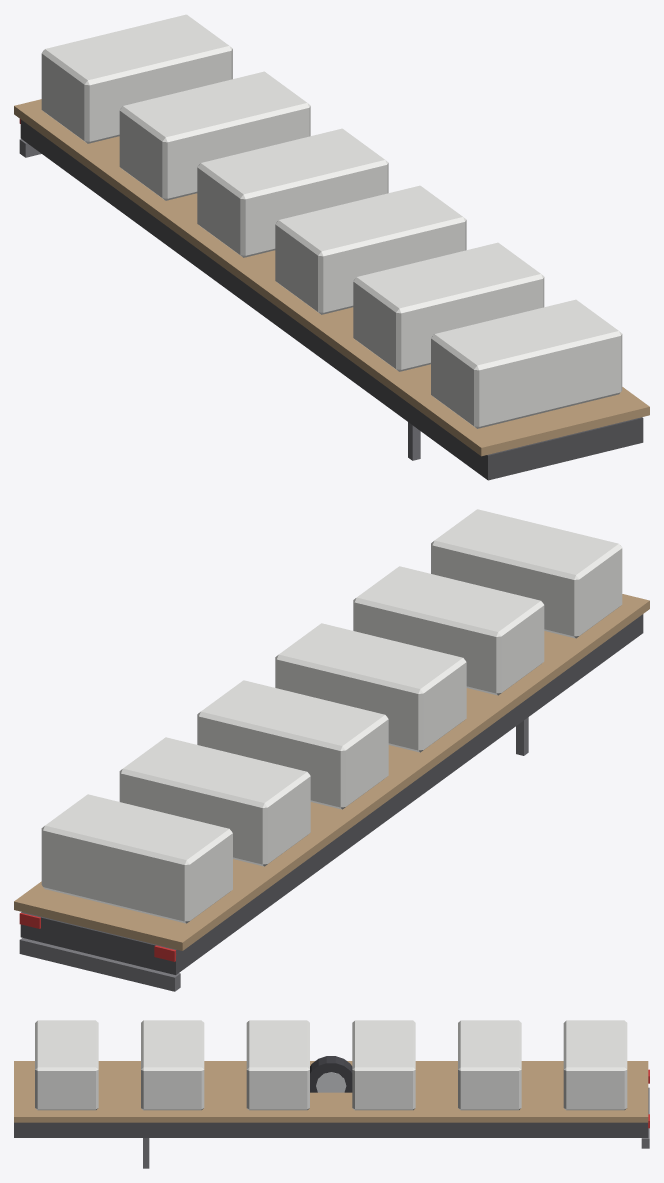
Rendered from trailer_flatbed.glb.
The picture shows the model from 3 angles, top to bottom: view 1: azimuth 30°, elevation 25°; view 2: azimuth 150°, elevation 25°; view 3: azimuth 270°, elevation 25°; orthographic projection. The views are drawn at different scales.
Parts seen in each view (by area): view 1: deck, load.005, load, load.002, load.001, load.003, load.004, body; view 2: deck, load, load.002, load.005, load.003, load.004, load.001, body, bumper_r; view 3: deck, body, load, load.002, load.005, load.001, load.003, load.004, wheel, wheel_rim.
Boxes of the visible parts, x1,y1,x2,y2 form: deck: (14, 99, 649, 456); load.005: (431, 299, 622, 428); load: (41, 14, 232, 143); load.002: (197, 128, 388, 257); load.001: (119, 71, 310, 200); load.003: (275, 185, 466, 314); load.004: (353, 242, 544, 371); body: (20, 119, 643, 480); deck: (14, 594, 649, 950); load: (41, 794, 232, 923); load.002: (197, 680, 388, 809); load.005: (431, 509, 622, 638); load.003: (275, 623, 466, 752); load.004: (353, 566, 544, 695); load.001: (119, 737, 310, 866); body: (20, 614, 643, 974); bumper_r: (19, 938, 180, 991); deck: (14, 1061, 648, 1122); body: (14, 1122, 648, 1137); load: (563, 1020, 627, 1110); load.002: (352, 1020, 415, 1110); load.005: (35, 1020, 98, 1110); load.001: (458, 1020, 521, 1110); load.003: (246, 1020, 309, 1110); load.004: (141, 1020, 204, 1110); wheel: (310, 1056, 352, 1092); wheel_rim: (316, 1072, 346, 1092).
Bounding box in the file's own units: 2.5 × 2.2 × 12.03.
